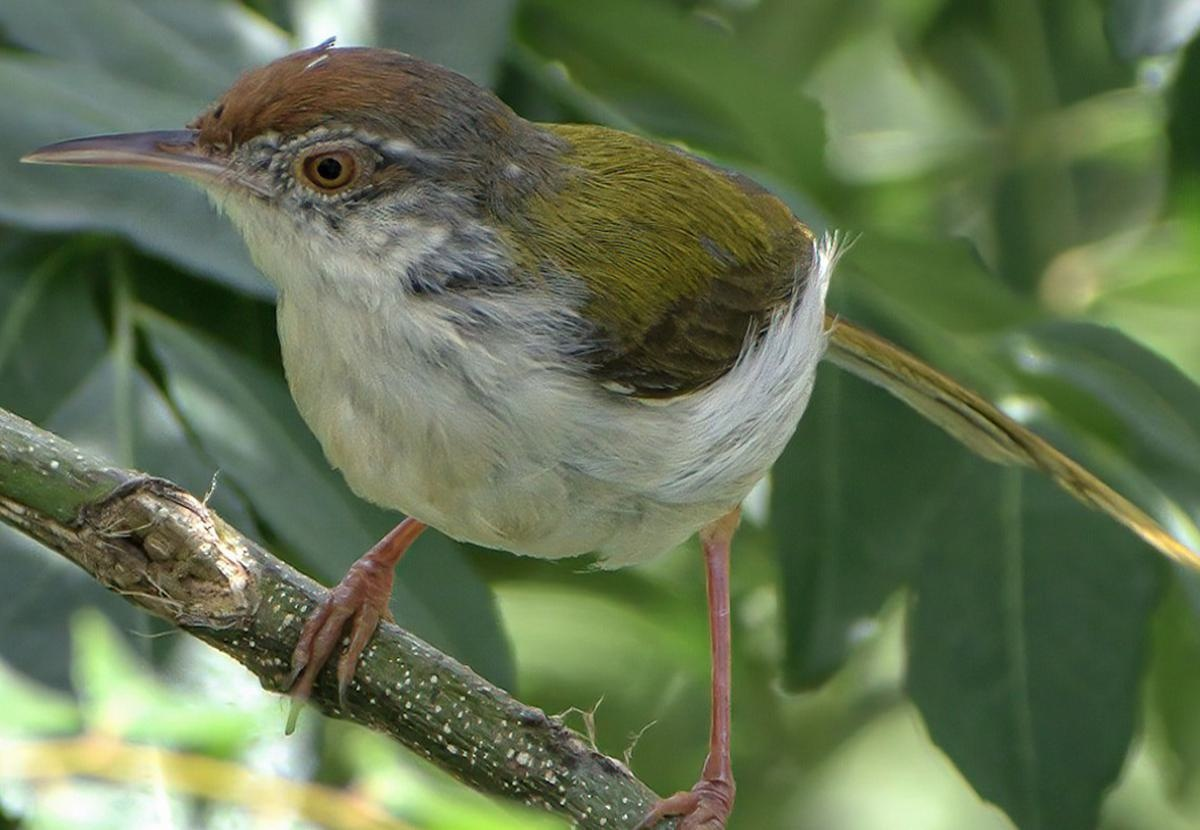tailorbird: (110, 48, 1077, 645)
